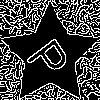P: (25, 30, 78, 84)
